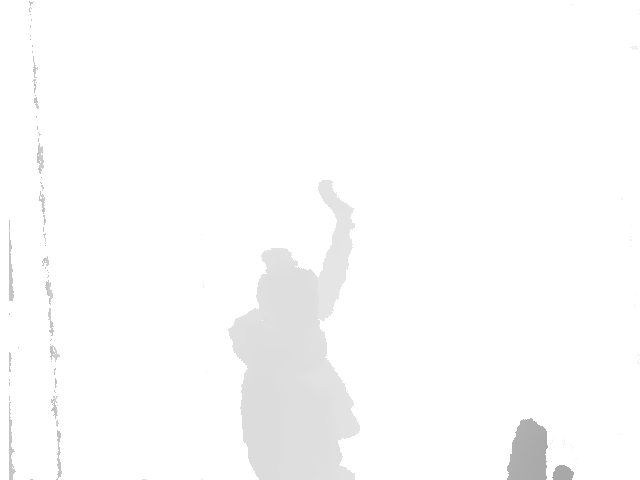hand: (316, 176, 354, 224)
head: (256, 249, 320, 322)
person: (230, 178, 363, 480)
